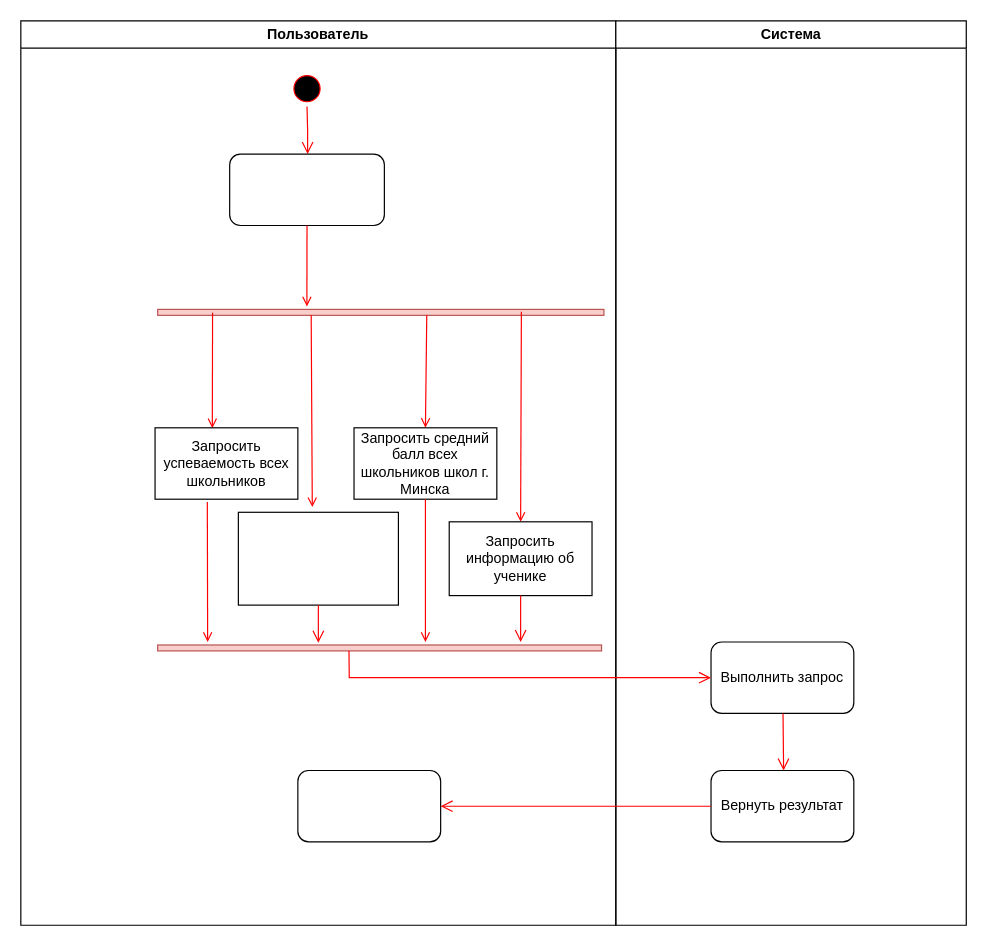
This 988x946 diagram has some shape labels left out. Each missing label, with the centre of its shape:
"Запросить информацию о школьниках, вес которых которых меньше 40 кг" goes at point (317, 558).
"Запустить программу" goes at point (306, 189).
"Получить рузультат" goes at point (369, 805).
